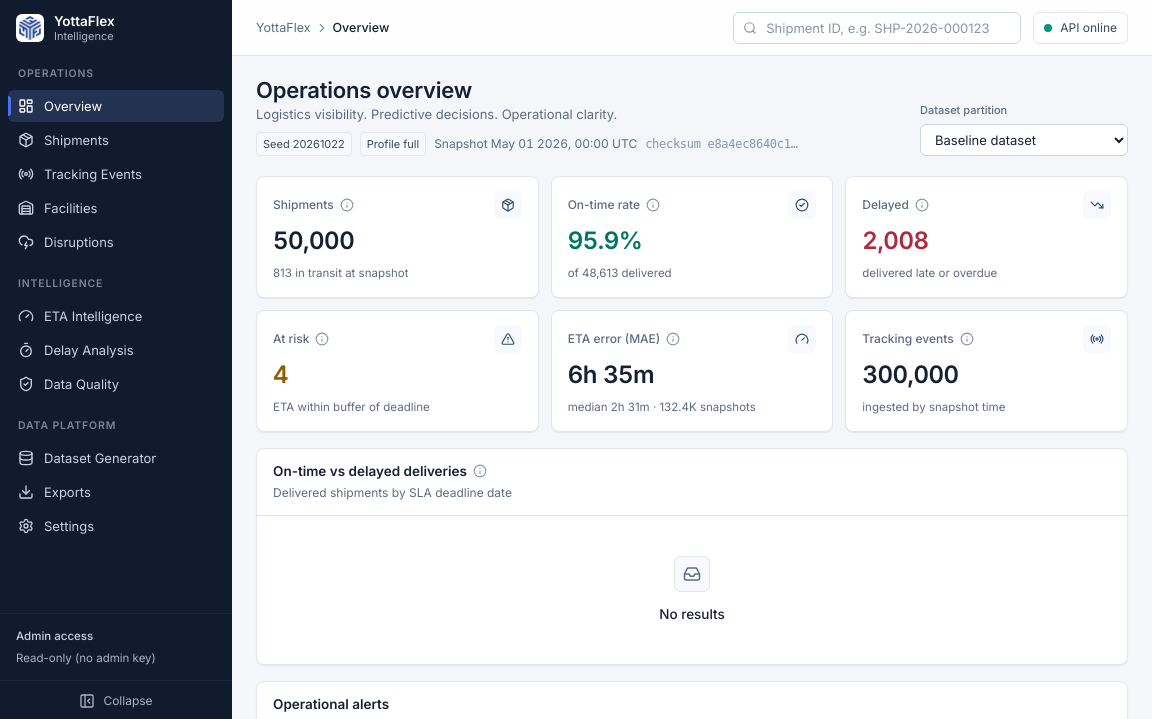
Test case: navigation & shell › navigates via the sidebar and updates breadcrumbs
This screenshot has width=1152, height=719.
Expected: the heading "Operations overview" is shown, [256, 77, 472, 103]
Step 1. Click the link "Shipments" → click(63, 140), box [18, 132, 109, 148]
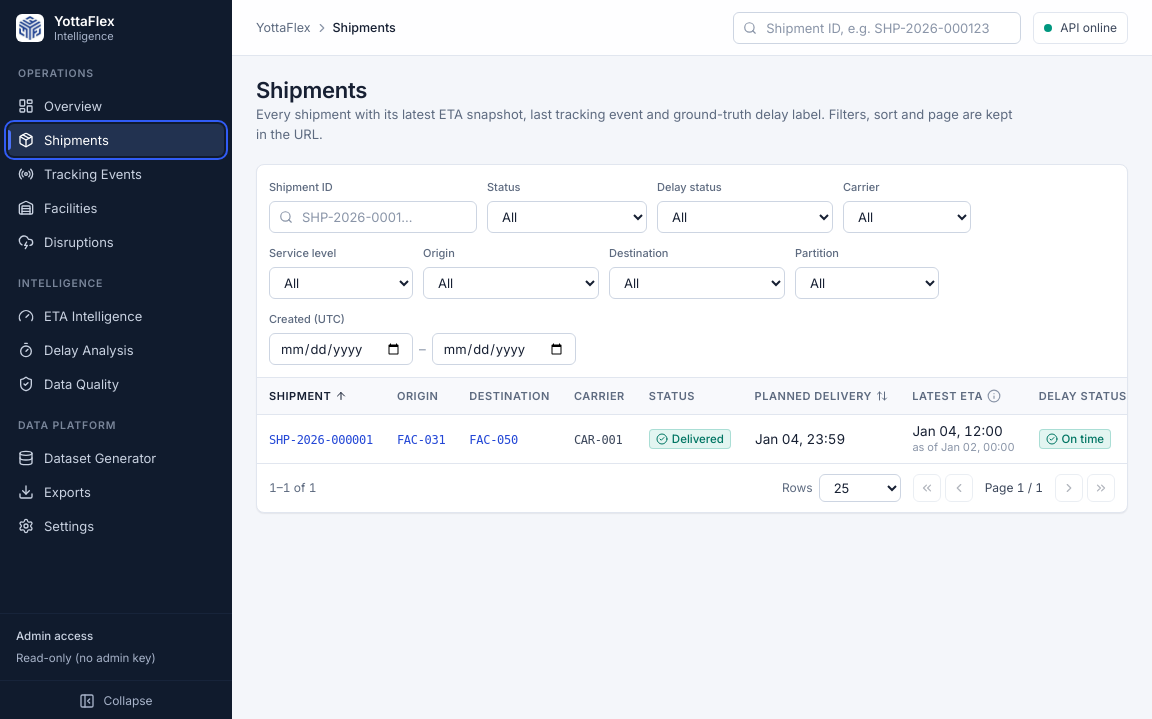
Now the heading "Shipments" is shown, box [256, 77, 367, 103]
